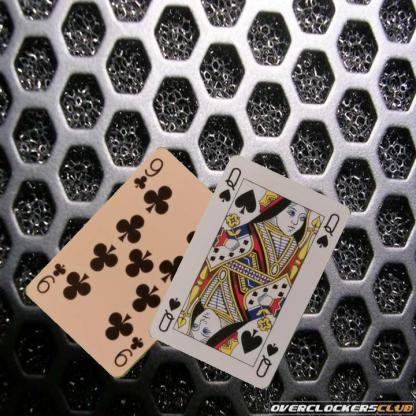9c: (131, 156, 165, 192), (111, 334, 145, 369)
Qs: (253, 340, 280, 380), (216, 165, 243, 204)
